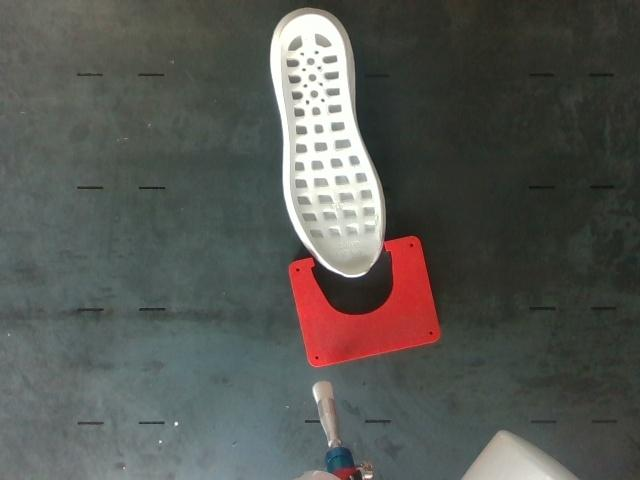shoes: (280, 12, 382, 277)
